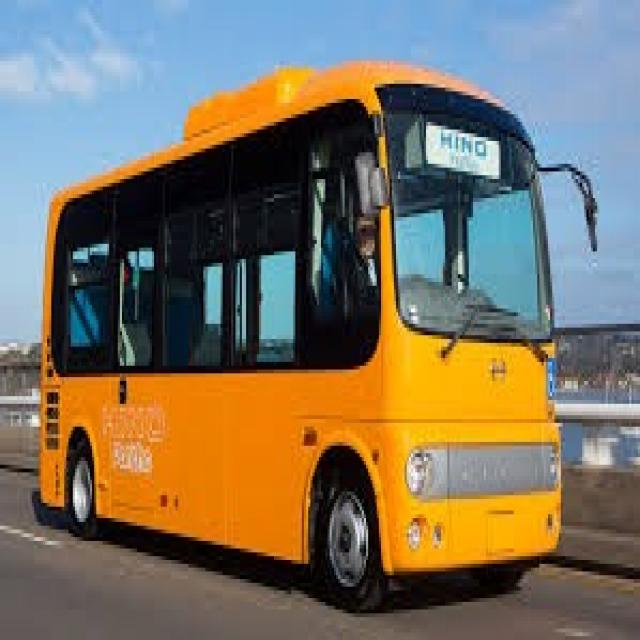bus: (32, 43, 587, 622)
